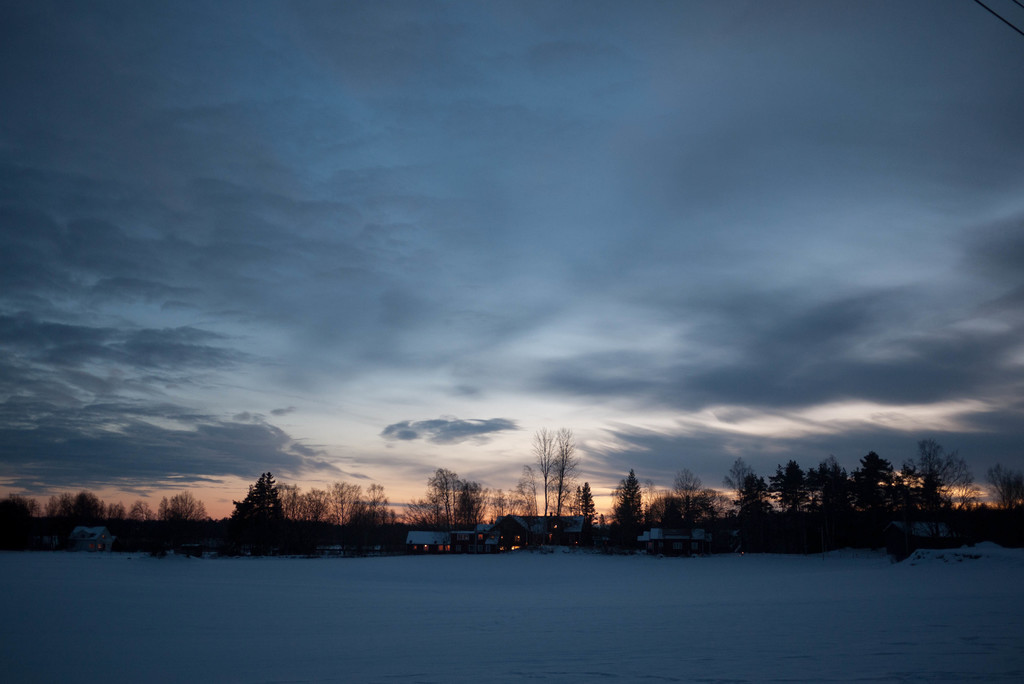Tree: (399, 425, 709, 554), (715, 434, 1023, 561), (298, 483, 404, 557), (0, 489, 96, 558), (216, 477, 296, 548), (148, 486, 220, 562), (97, 495, 144, 557)
